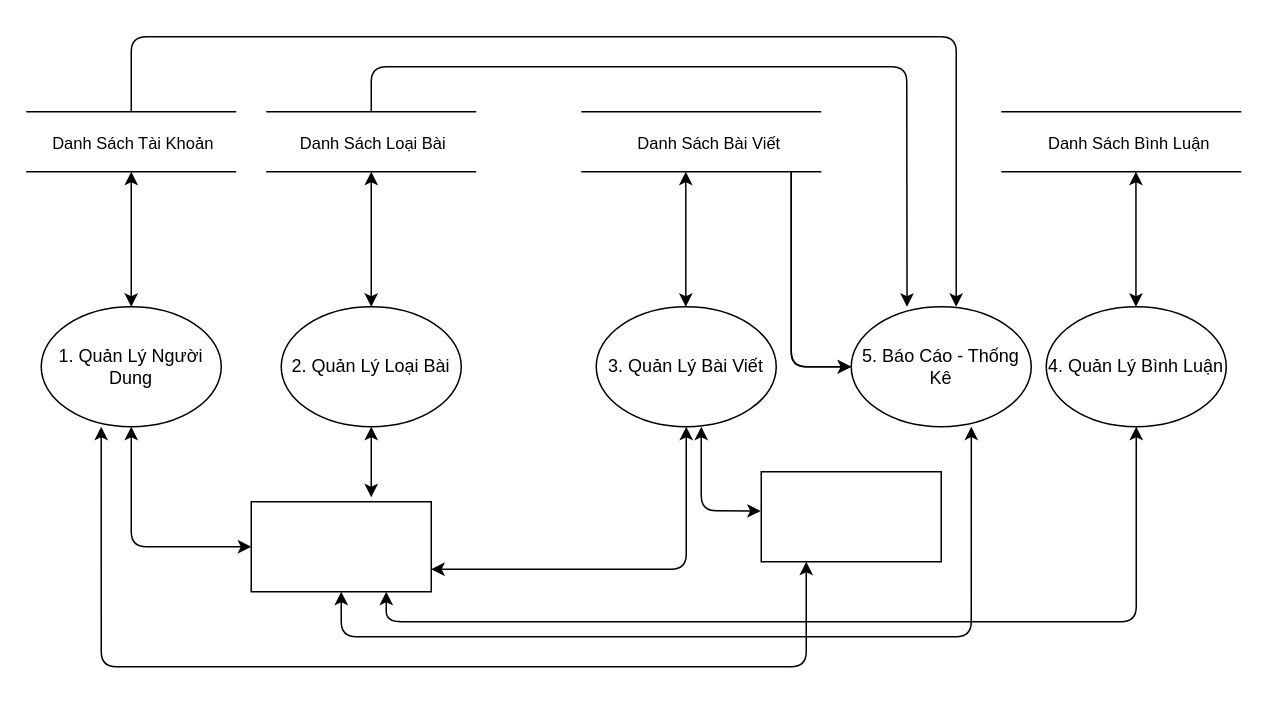
Image size: 1269x707. Some labels were removed from this diagram. The shapes that lost their labels are listed below. From the top down, each one's box as (x1, y1, x2, y2) in pixels, then its label:
(760, 470, 941, 562): Thành Viên
(250, 500, 431, 592): Quản Trị
